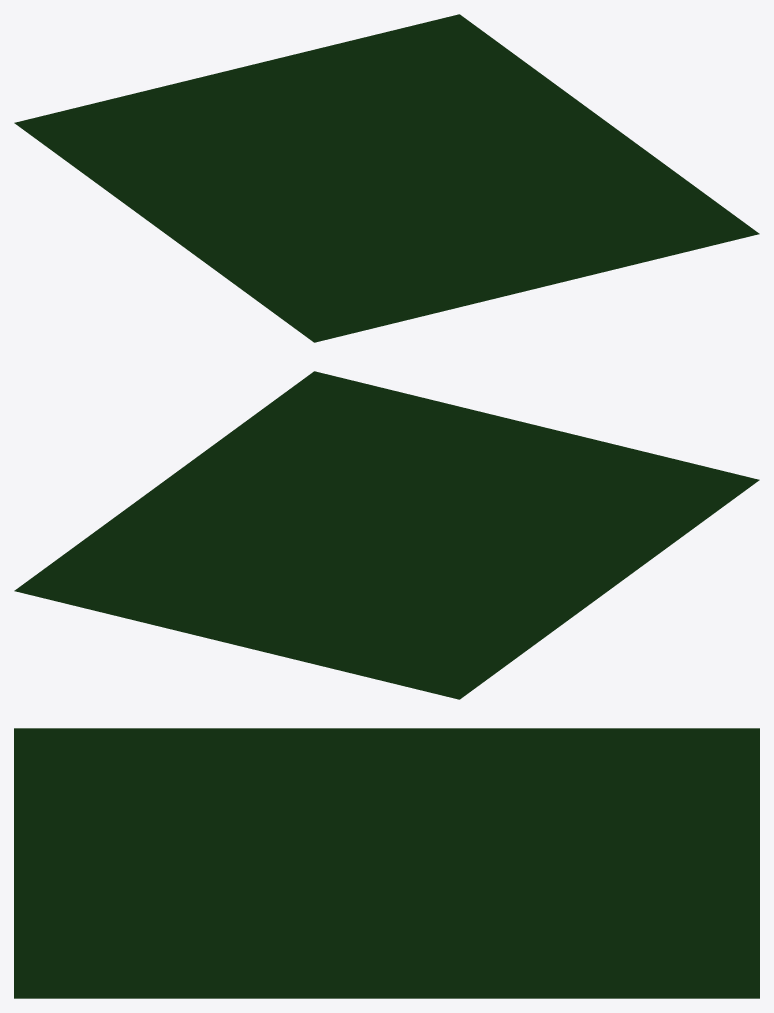
Rendered from Landscape.fbx.
3 views of the same model, one above another, from view 1: azimuth 30°, elevation 25°; view 2: azimuth 150°, elevation 25°; view 3: azimuth 270°, elevation 25° (orthographic). The views are drawn at different scales.
Visible parts, largest first — view 1: Plane__1_, Plane__3_, Plane, Plane__2_; view 2: Plane__2_, Plane, Plane__1_, Plane__3_; view 3: Plane__2_, Plane, Plane__1_, Plane__3_.
Part boxes in pixels (bbox=[...]): Plane__1_: bbox=[165, 178, 536, 342]; Plane__3_: bbox=[387, 124, 759, 288]; Plane: bbox=[14, 68, 386, 232]; Plane__2_: bbox=[237, 14, 608, 177]; Plane__2_: bbox=[14, 481, 386, 645]; Plane: bbox=[237, 535, 609, 699]; Plane__1_: bbox=[387, 425, 759, 589]; Plane__3_: bbox=[165, 371, 536, 534]; Plane__2_: bbox=[386, 863, 759, 998]; Plane: bbox=[386, 728, 759, 863]; Plane__1_: bbox=[14, 728, 387, 863]; Plane__3_: bbox=[14, 863, 387, 998].
Bounding box in the file's own units: 10158 × 0 × 11858.
